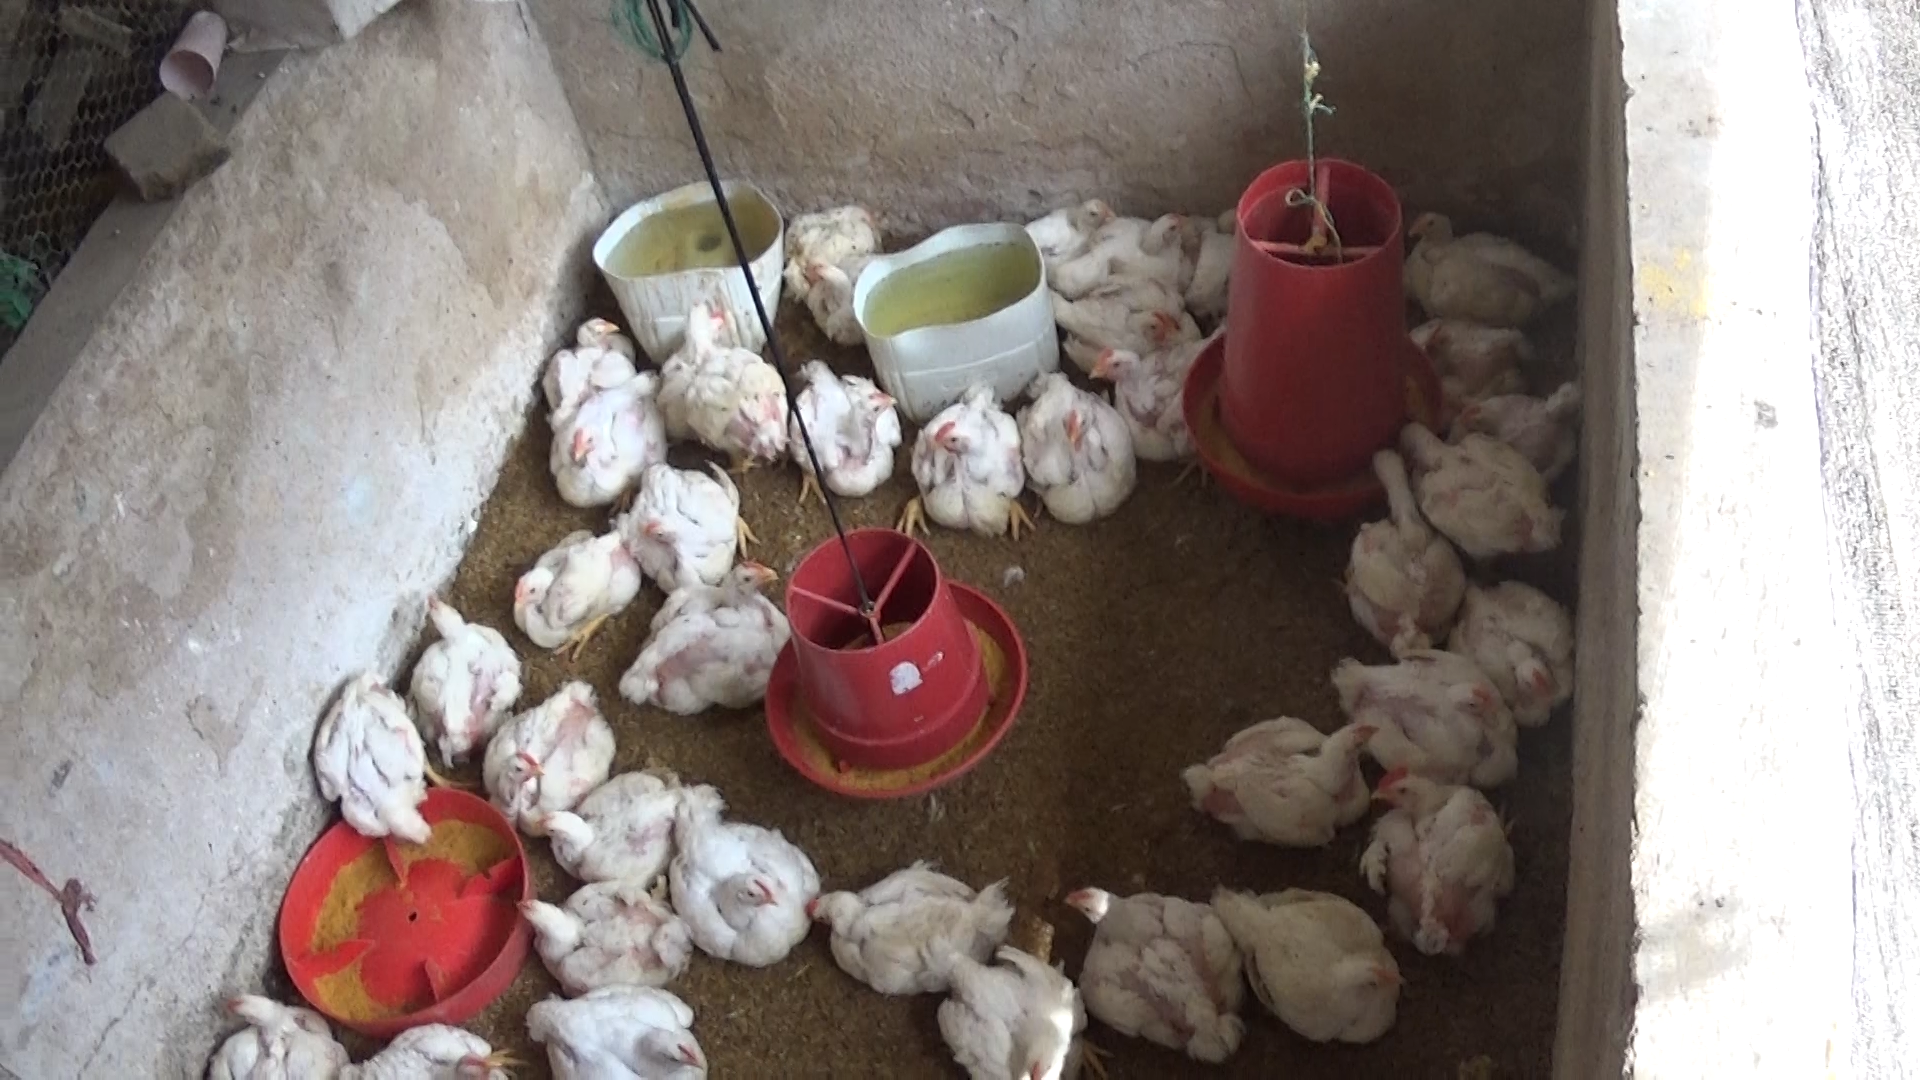Pollos: (1207, 868, 1411, 1063), (1060, 877, 1250, 1056), (802, 857, 1026, 996), (612, 556, 791, 721), (1377, 766, 1522, 961), (1174, 705, 1382, 841), (662, 794, 836, 952), (1320, 649, 1522, 785), (293, 667, 442, 851), (1332, 443, 1461, 653), (902, 938, 1083, 1080), (1004, 363, 1139, 543), (495, 880, 707, 993), (771, 348, 905, 526), (895, 376, 1027, 549), (1404, 207, 1585, 332), (1079, 335, 1222, 491), (471, 665, 612, 822), (657, 301, 785, 473), (537, 371, 671, 533), (1451, 567, 1582, 728), (394, 582, 517, 748), (505, 524, 634, 676), (1391, 427, 1549, 551), (1031, 268, 1201, 382), (530, 978, 723, 1079), (524, 778, 688, 889), (611, 456, 761, 578), (202, 988, 351, 1080), (338, 1009, 517, 1080), (531, 302, 618, 423), (1096, 195, 1201, 291), (1451, 375, 1592, 444), (789, 247, 876, 343), (1033, 171, 1124, 251)
